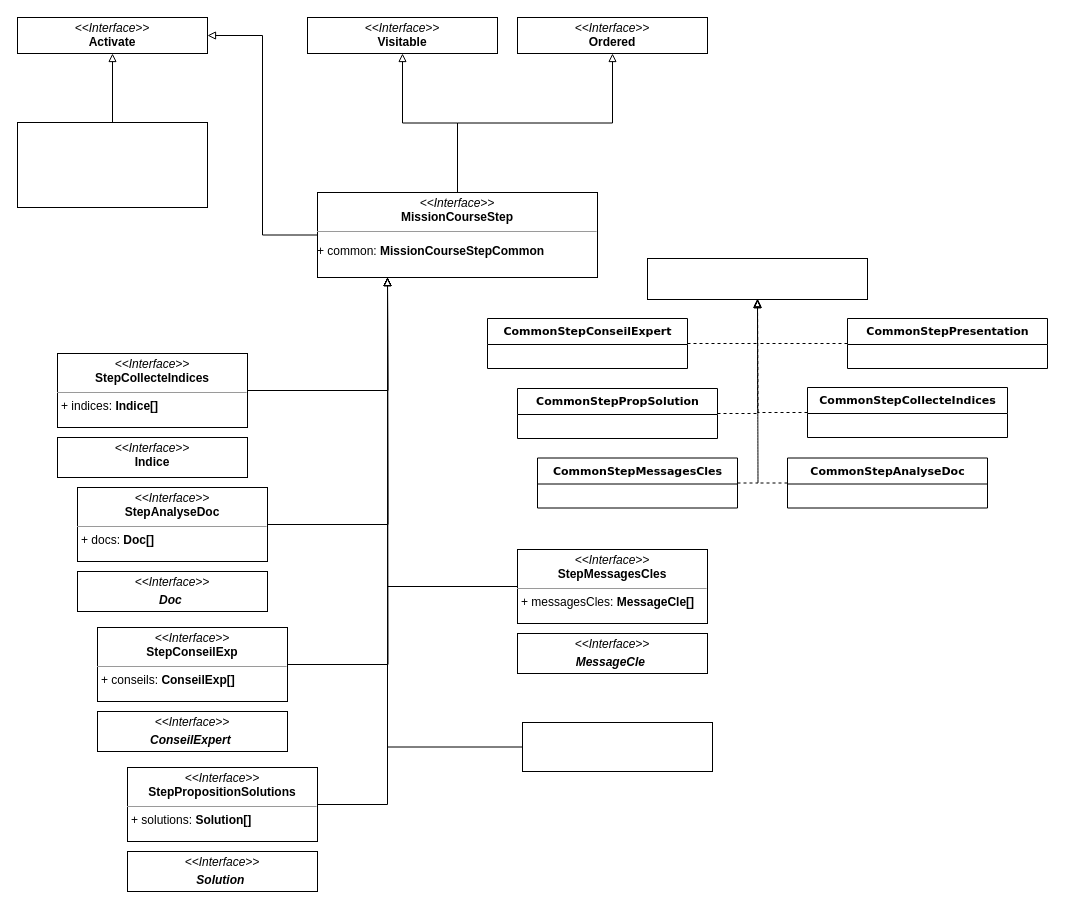
This 1065x909 diagram has some shape labels left out. Here are the shapes that lost their labels. From the top down, the centre of each, then its label:
At point (112, 165): "<<Interface>> MissionCourse + id: string + steps: MissionCourseStep[]".
At point (757, 279): "<<Interface>> MissionCourseStepCommon".
At point (617, 747): "<<Interface>> StepPresentation".
